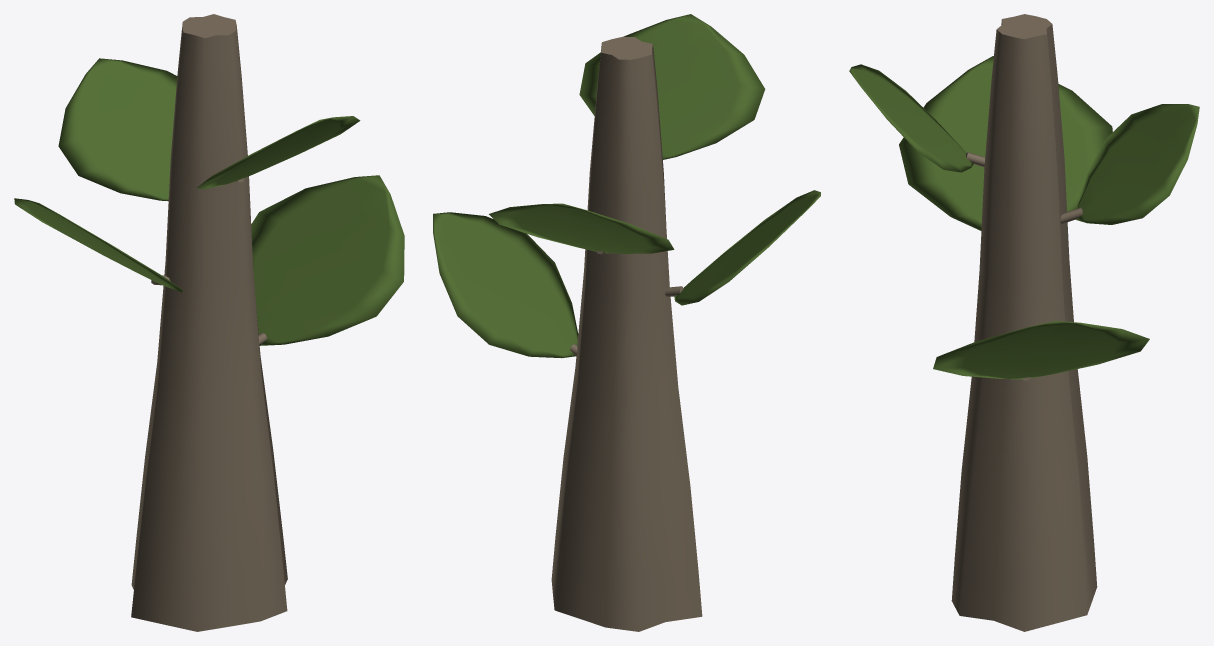
File: forest-branch-leafed.fbx
The picture shows the model from 3 angles, left to right: view 1: azimuth 30°, elevation 25°; view 2: azimuth 150°, elevation 25°; view 3: azimuth 270°, elevation 25°; orthographic projection. The views are drawn at different scales.
Visible parts, largest first — view 1: SM_DY_ForestBranch_Canopy; view 2: SM_DY_ForestBranch_Canopy; view 3: SM_DY_ForestBranch_Canopy.
Part boxes in pixels (bbox=[...]): SM_DY_ForestBranch_Canopy: bbox=[14, 14, 404, 631]; SM_DY_ForestBranch_Canopy: bbox=[433, 14, 820, 631]; SM_DY_ForestBranch_Canopy: bbox=[849, 14, 1199, 631].
Size of the model in its own units: 68 by 56 by 100.
